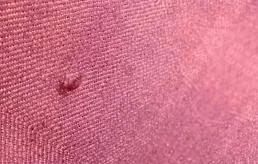knot: (56, 73, 86, 101)
